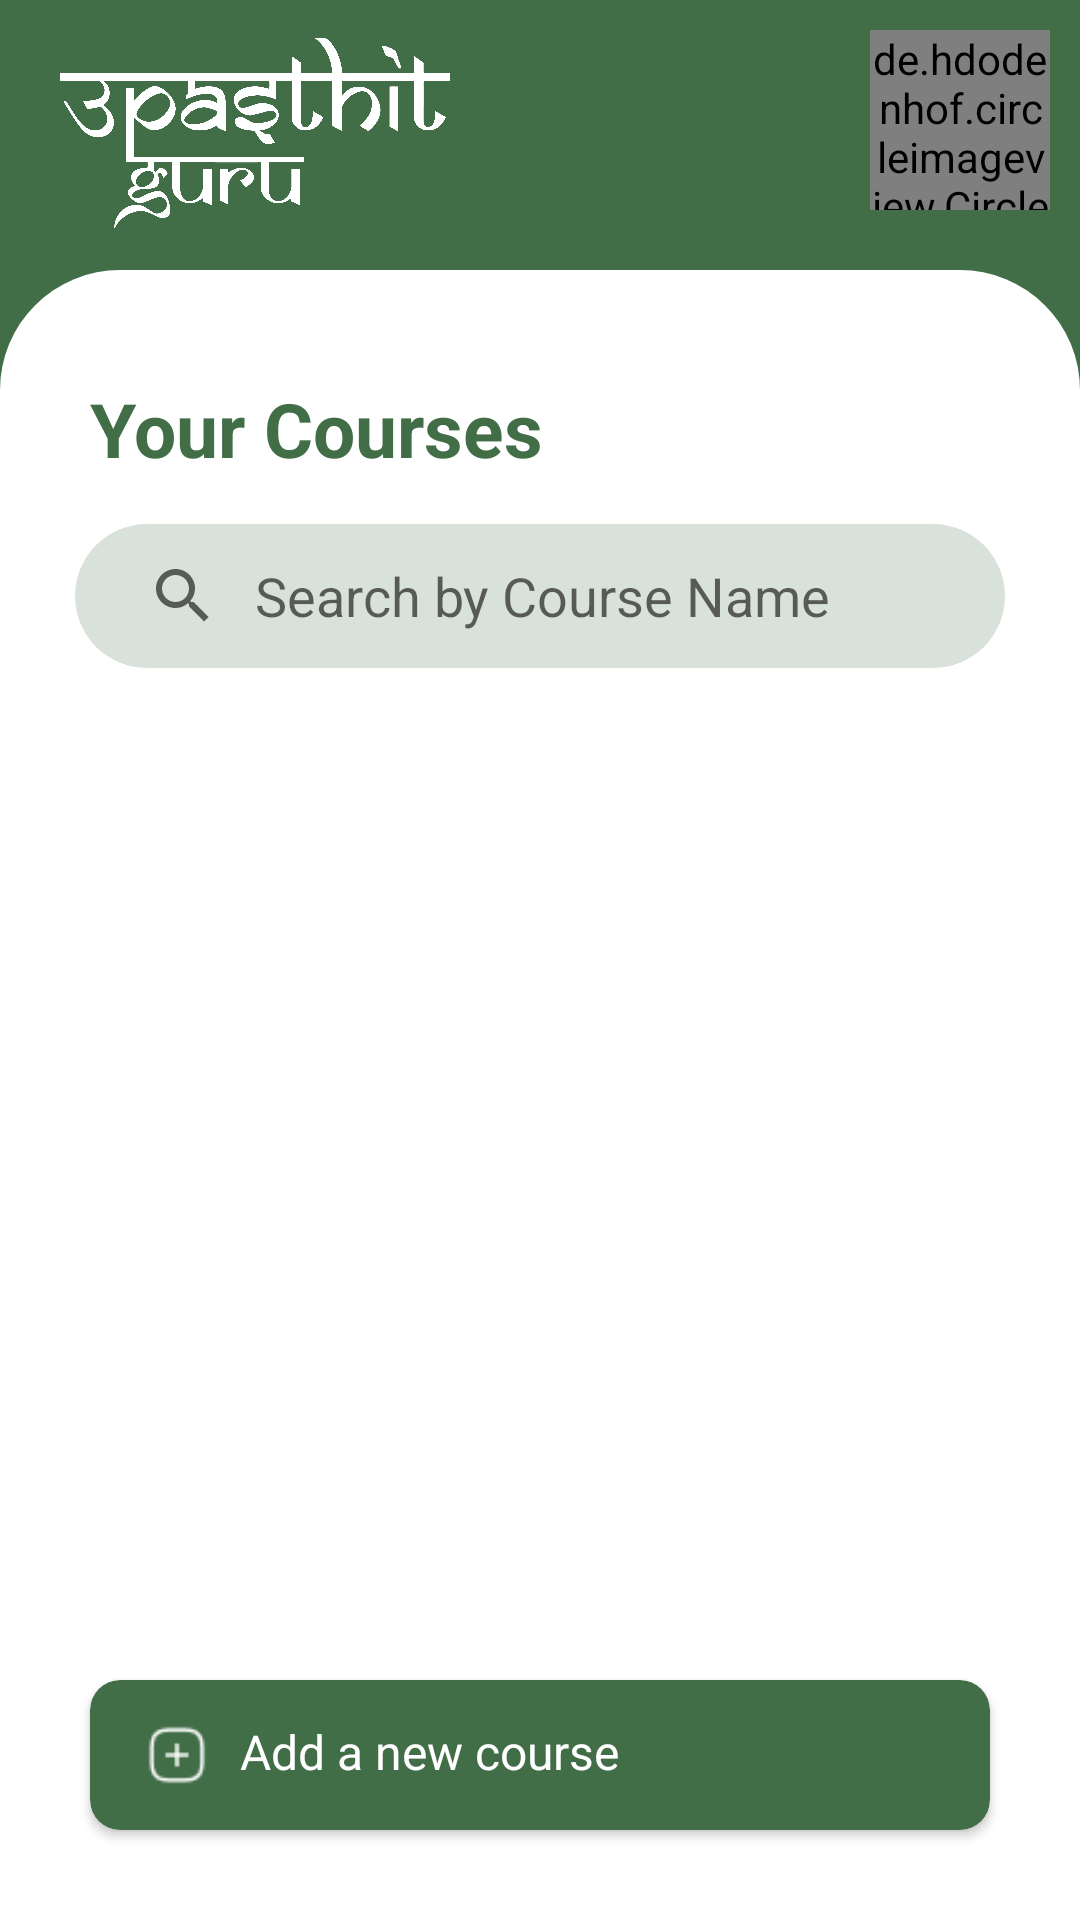

Screen size 1080 x 1920. Icon name, then its box in pixels as (x1, y1, x2, y2):
addsquare: (149, 1727, 205, 1783)
